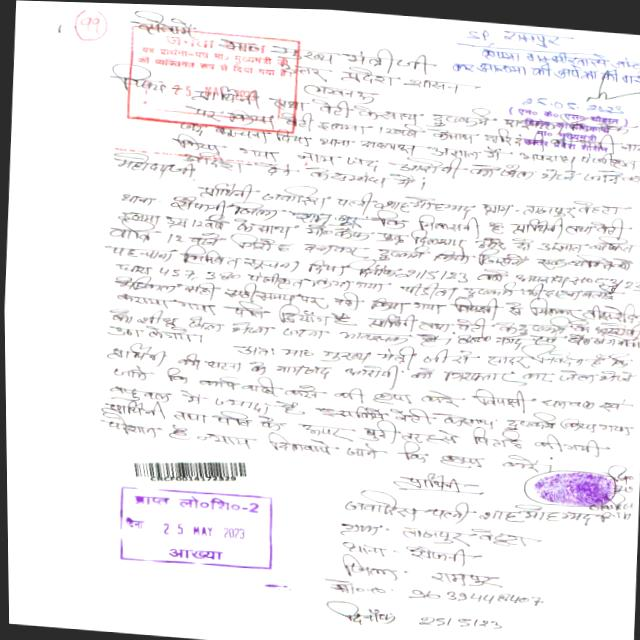antritgovtstamp: (125, 23, 303, 135), (113, 484, 278, 574)
barcode: (127, 453, 267, 490)
fingerprint: (524, 465, 622, 513)
signnamestamp: (510, 62, 640, 157)
